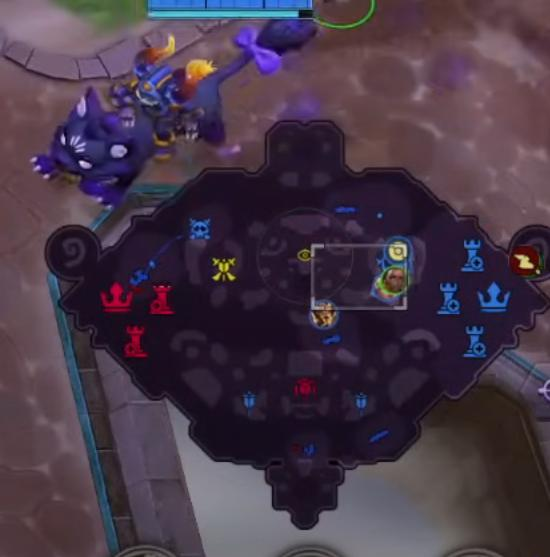blue player: (373, 265, 409, 300), (383, 235, 412, 268), (309, 299, 338, 330)
